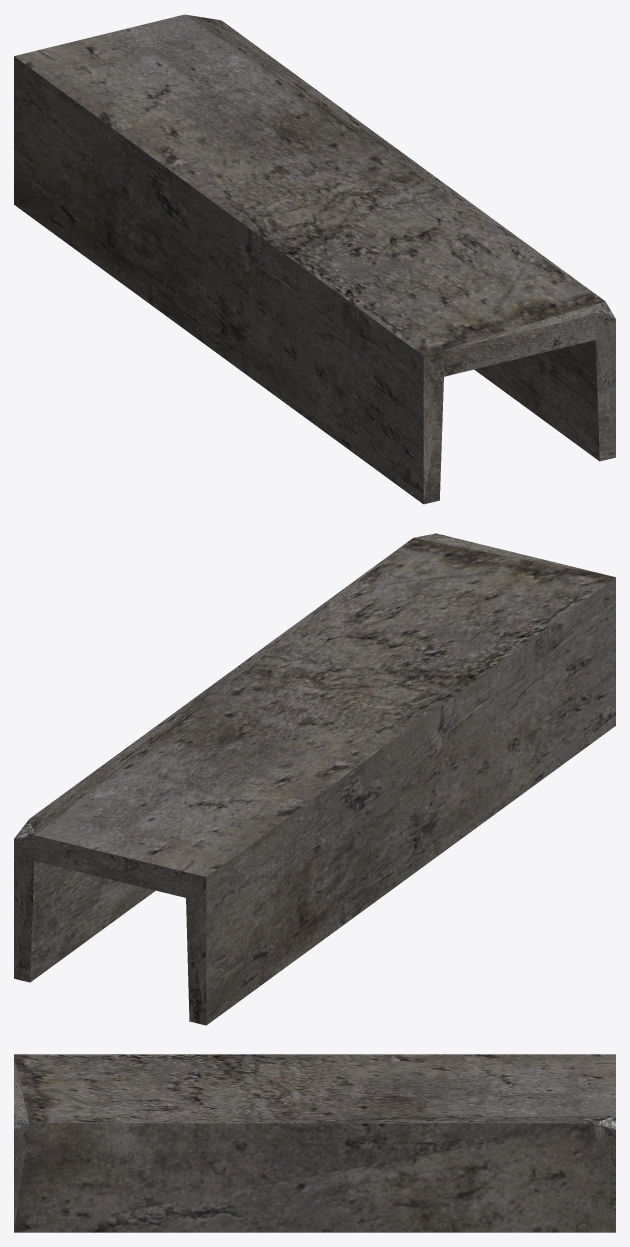
File: concrete_block_2.obj
The picture shows the model from 3 angles, top to bottom: view 1: azimuth 30°, elevation 25°; view 2: azimuth 150°, elevation 25°; view 3: azimuth 270°, elevation 25°; orthographic projection. The views are drawn at different scales.
Visible parts, largest first — view 1: 0.026; view 2: 0.026; view 3: 0.026, 1.022.
Part boxes in pixels (left/top/right/bottom): 0.026: left=14, top=14, right=615, bottom=504; 0.026: left=14, top=533, right=615, bottom=1025; 0.026: left=14, top=1054, right=615, bottom=1232; 1.022: left=14, top=1115, right=615, bottom=1130.
Size of the model in its own units: 1.06 by 0.78 by 3.9.
